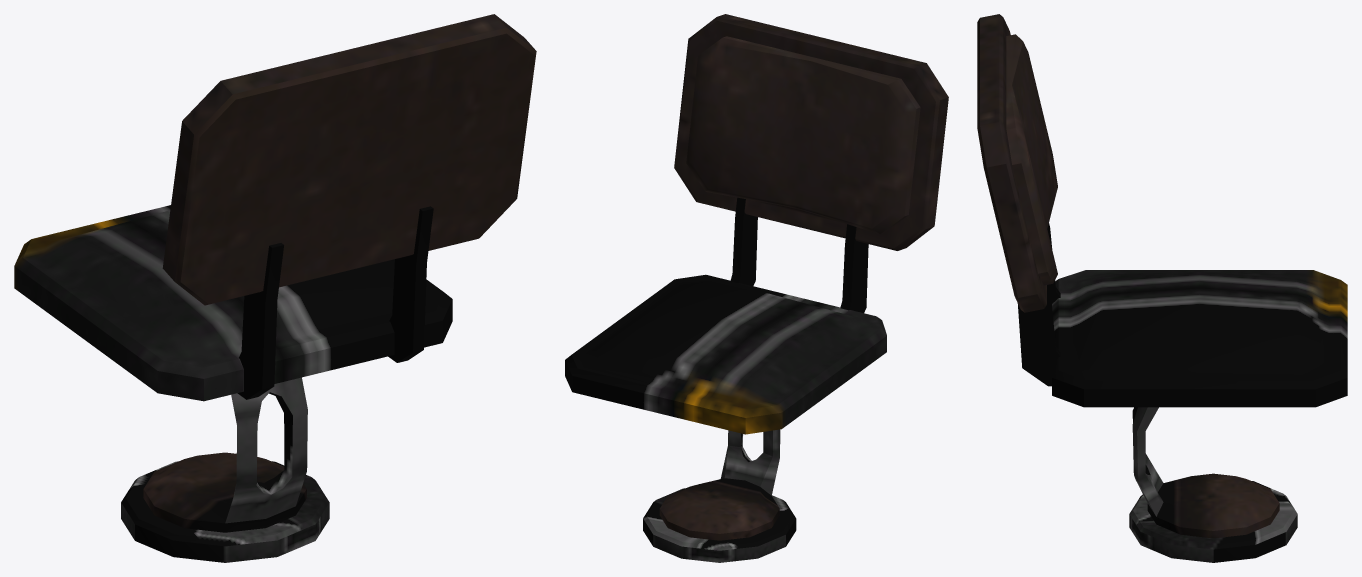
Rendered from 01_05_transporter_passenger_chair.dae.
3 views of the same model, side by side, from view 1: azimuth 30°, elevation 25°; view 2: azimuth 150°, elevation 25°; view 3: azimuth 270°, elevation 25° (orthographic). The views are drawn at different scales.
Visible parts, largest first — view 1: chair; view 2: chair; view 3: chair.
Part boxes in pixels (x1=…): chair: x1=14, y1=14, x2=536, y2=562; chair: x1=565, y1=14, x2=948, y2=562; chair: x1=977, y1=14, x2=1347, y2=562.
Size of the model in its own units: 1 by 1.59 by 1.16.
